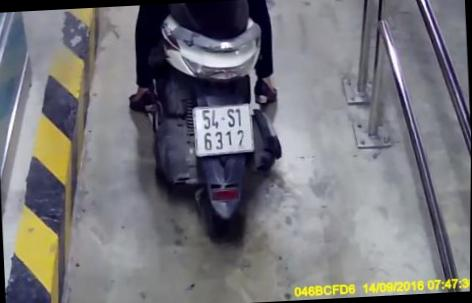LP: (190, 102, 256, 156)
